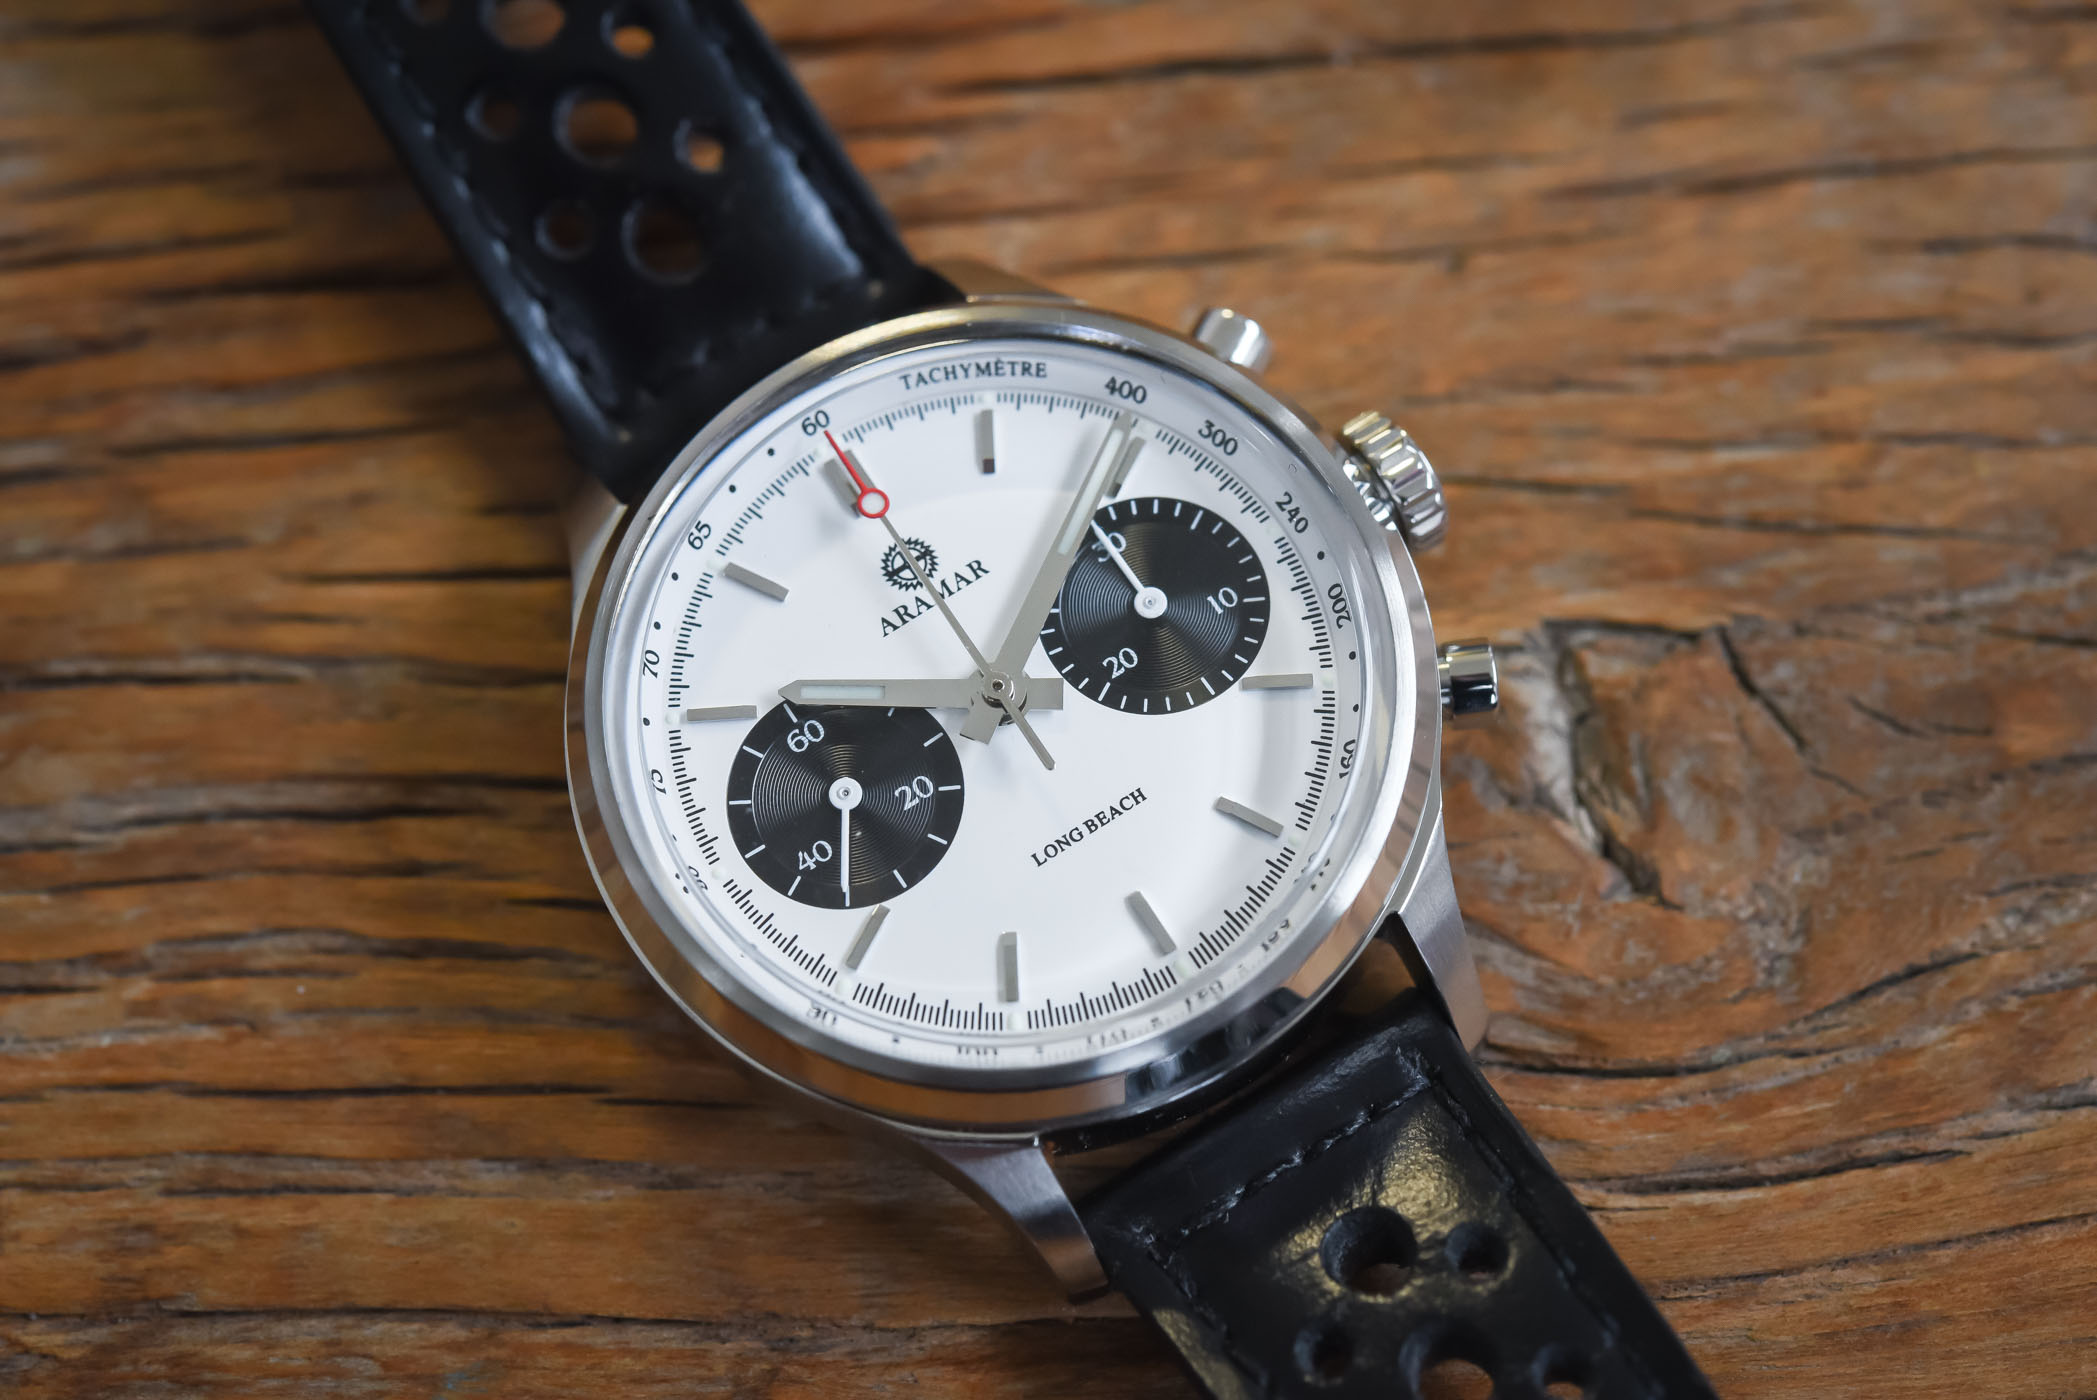clock: (563, 306, 1445, 1131)
